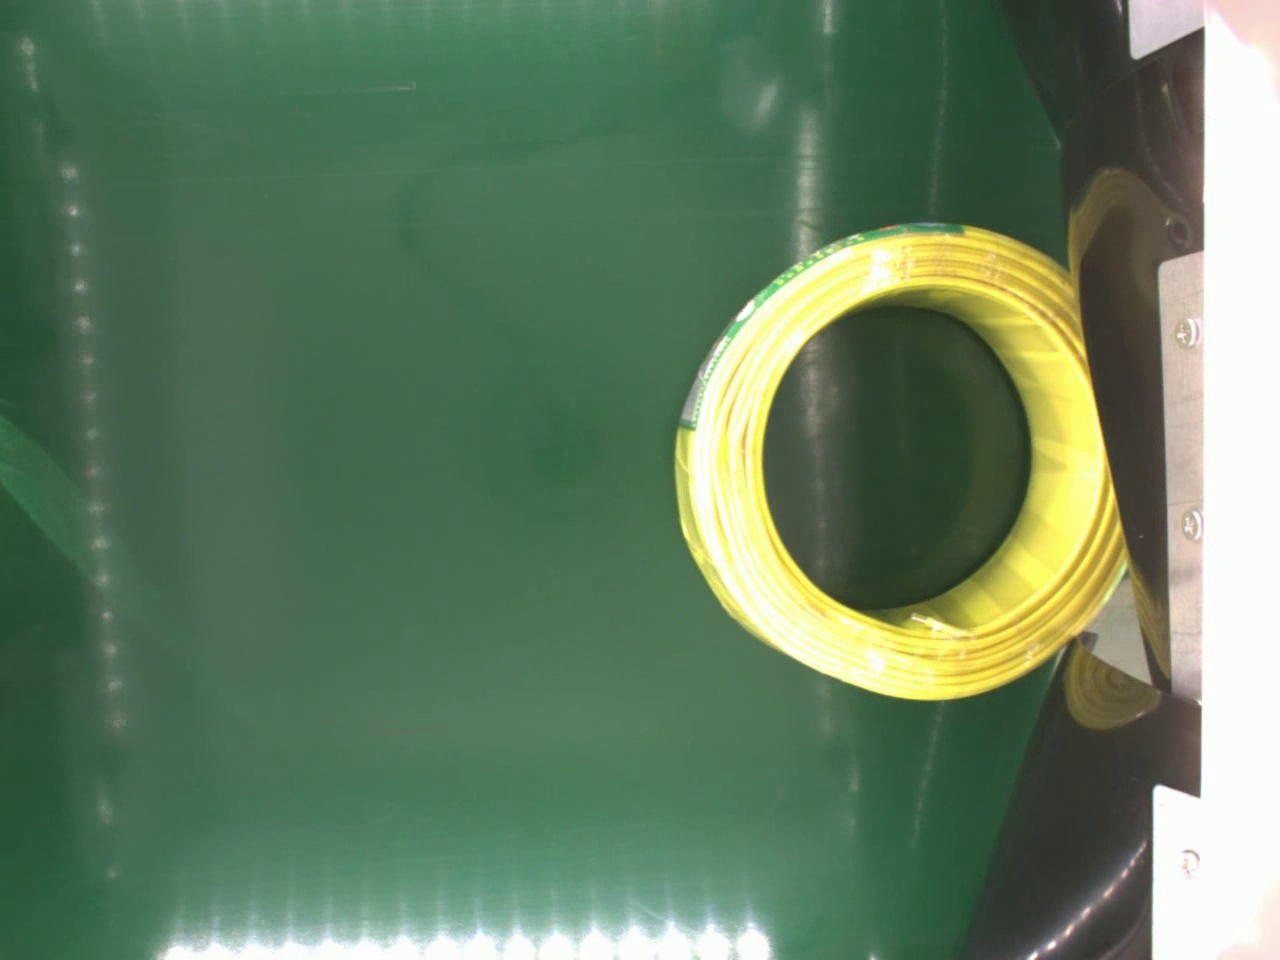yellow: (670, 213, 1132, 705)
